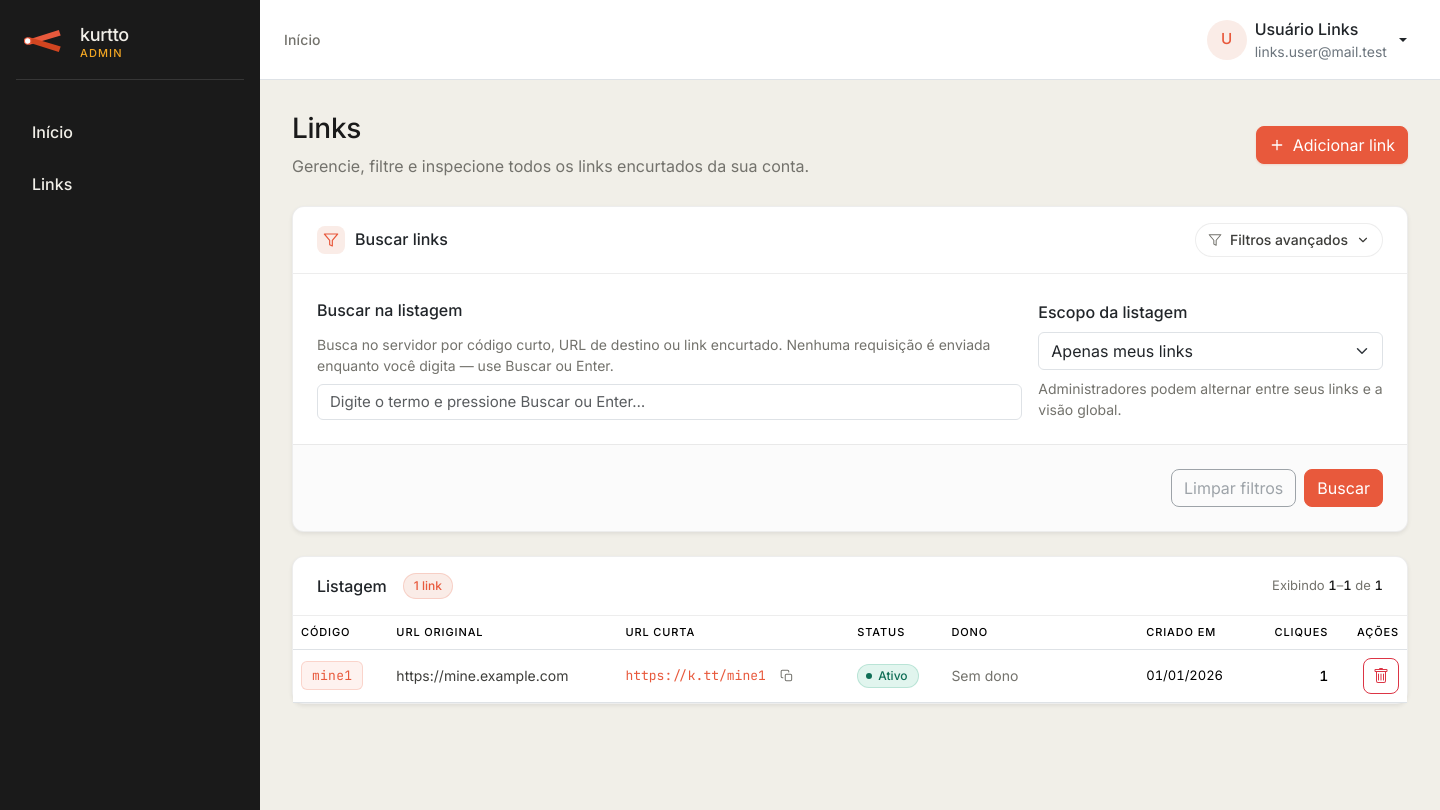
Test: Links › admin alterna entre escopo "meus links" e "todos os links"
The width and height of the screenshot is (1440, 810).
Check: the link "https://mine.example.com" is shown, box [396,667,568,684]
Select "Todos os links" in the dropdown labelled "Escopo da listagem": point(1211, 351) [1038,332,1383,370]
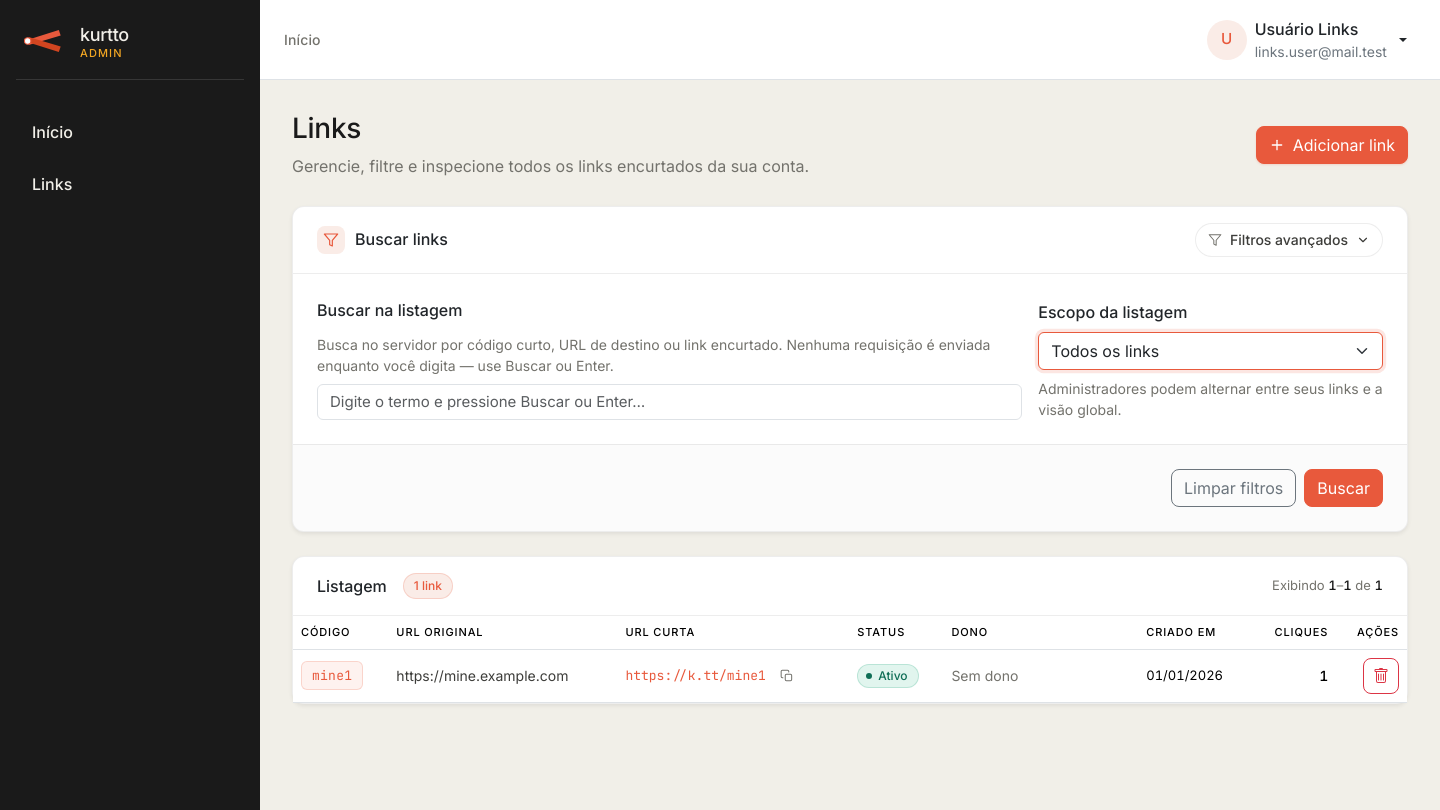
Click the button "Buscar": point(1344, 488) [1304,469,1383,507]
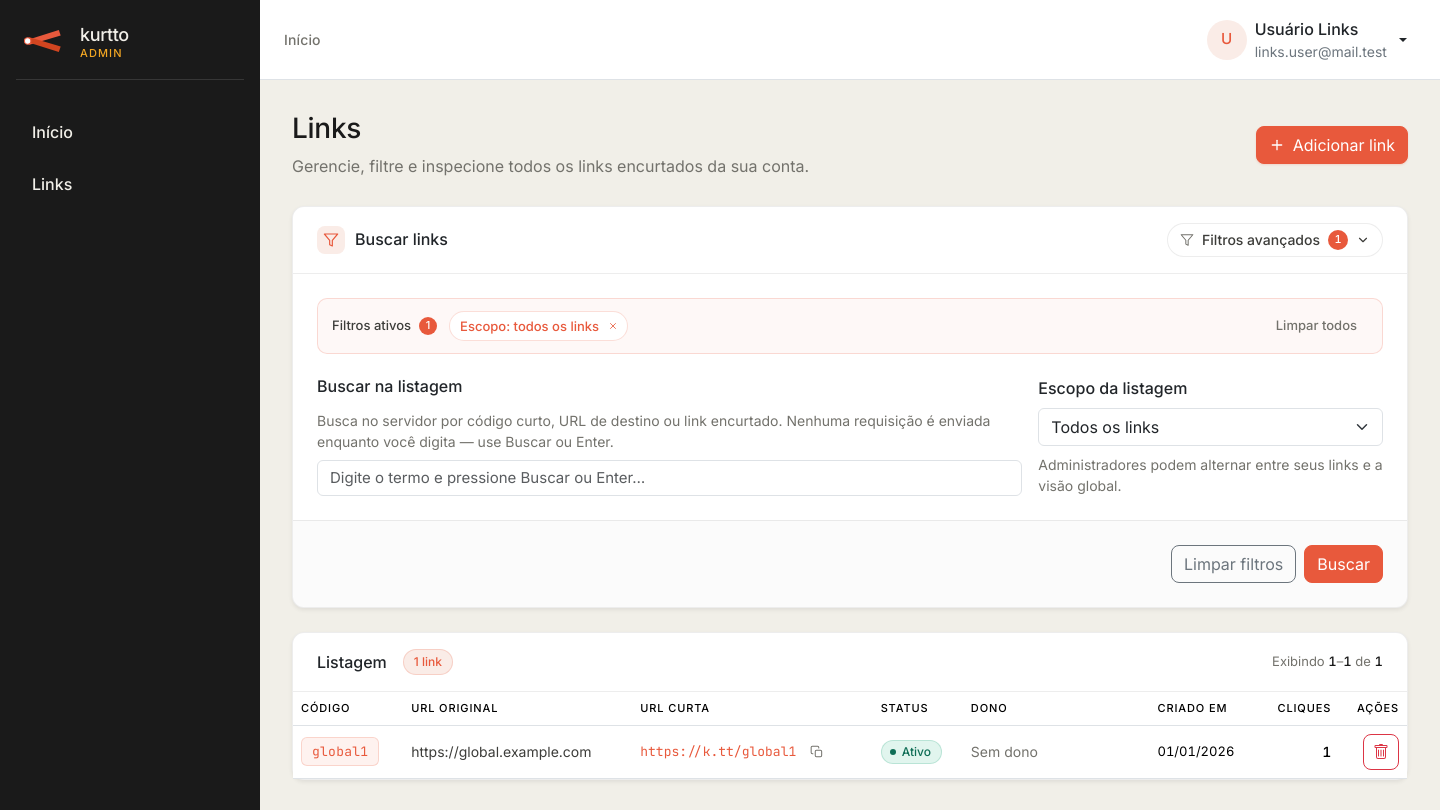
Check: the text "Escopo: todos os links" is shown, box [460,316,599,335]
